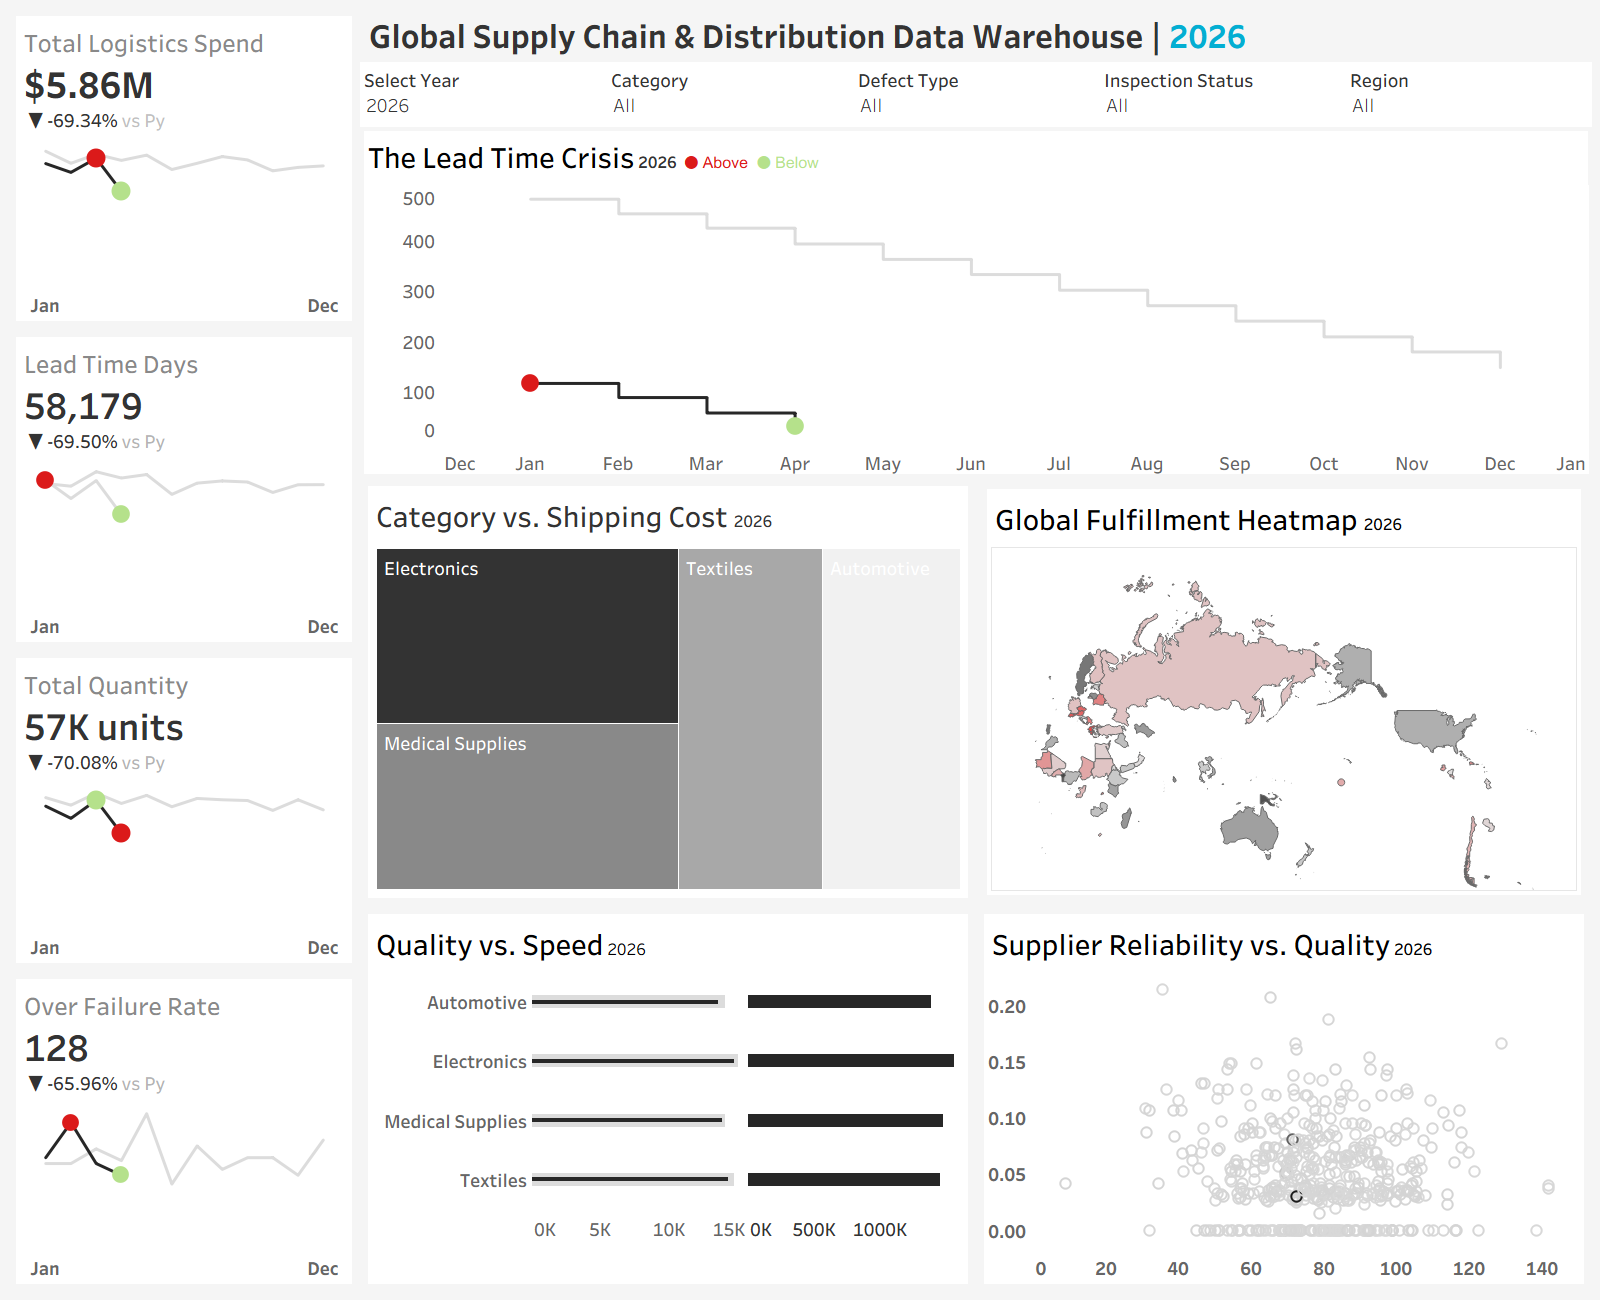

This screenshot's page, from the dashboard's own definition file:
{"tool":"tableau","page":{"name":"Dashboard 1","canvas":[1600,1000],"ordinal":0},"visuals":[{"type":"worksheet","title":"kpi1","mark":"Line","rows":["Calculation_1406888974843910"],"cols":["SHIP_DATE"],"box":[8,8,352,246]},{"type":"text","box":[360,8,1232,54]},{"type":"parameter","param":"[Parameters].[Parameter 1]","box":[360,62,247,65]},{"type":"filter","title":"kpi1","param":"[federated.1cuuh3r0gpd1wt1fzi9ma15irzsm].[none:CATEGORY:nk]","box":[607,62,247,65]},{"type":"filter","title":"kpi1","param":"[federated.1cuuh3r0gpd1wt1fzi9ma15irzsm].[none:DEFECT_TYPE:nk]","box":[854,62,246,65]},{"type":"filter","title":"kpi1","param":"[federated.1cuuh3r0gpd1wt1fzi9ma15irzsm].[none:INSPECTION_STATUS:nk]","box":[1100,62,246,65]},{"type":"filter","title":"kpi1","param":"[federated.1cuuh3r0gpd1wt1fzi9ma15irzsm].[none:REGION:nk]","box":[1346,62,246,65]},{"type":"worksheet","title":"chart1","mark":"Automatic","rows":["min/max quanity (copy)_1406889061957679"],"cols":["SHIP_DATE"],"box":[360,127,1232,241]},{"type":"worksheet","title":"kpi2","mark":"Automatic","rows":["min/max shipping cost (copy)_1406888998326294"],"cols":["SHIP_DATE"],"box":[8,254,352,246]},{"type":"worksheet","title":"chart3","mark":"Square","box":[360,368,616,328]},{"type":"worksheet","title":"chart2","mark":"Multipolygon","box":[976,368,616,328]},{"type":"worksheet","title":"kpi3","mark":"Line","rows":["min/max failure (copy)_1406889032564777"],"cols":["SHIP_DATE"],"box":[8,500,352,246]},{"type":"worksheet","title":"chart4","mark":"Bar","rows":["CATEGORY"],"cols":["CY shipping cost (copy)_1406888995442705","Calculation_1406889031933990","Calculation_1406888969895938"],"box":[360,696,616.5,296]},{"type":"worksheet","title":"chart5","mark":"Automatic","rows":["Calculation_0835142706839560"],"cols":["Calculation_0835142696239105"],"box":[976.5,696,615.5,296]},{"type":"worksheet","title":"kpi4","mark":"Automatic","rows":["min/max lead time days (copy)_1406889008521245"],"cols":["SHIP_DATE"],"box":[8,746,352,246]}]}

Visuals, with their boxes in screenshot pixels (x1, y1, x2, y2):
"kpi1" worksheet (Line marks): BBox(29, 33, 376, 275)
text: BBox(376, 33, 1591, 86)
parameter: BBox(376, 86, 619, 150)
"kpi1" filter: BBox(619, 86, 863, 150)
"kpi1" filter: BBox(863, 86, 1106, 150)
"kpi1" filter: BBox(1106, 86, 1348, 150)
"kpi1" filter: BBox(1348, 86, 1591, 150)
"chart1" worksheet: BBox(376, 150, 1591, 388)
"kpi2" worksheet: BBox(29, 275, 376, 518)
"chart3" worksheet (Square marks): BBox(376, 388, 983, 711)
"chart2" worksheet (Multipolygon marks): BBox(983, 388, 1591, 711)
"kpi3" worksheet (Line marks): BBox(29, 518, 376, 761)
"chart4" worksheet (Bar marks): BBox(376, 711, 984, 1003)
"chart5" worksheet: BBox(984, 711, 1591, 1003)
"kpi4" worksheet: BBox(29, 761, 376, 1003)
